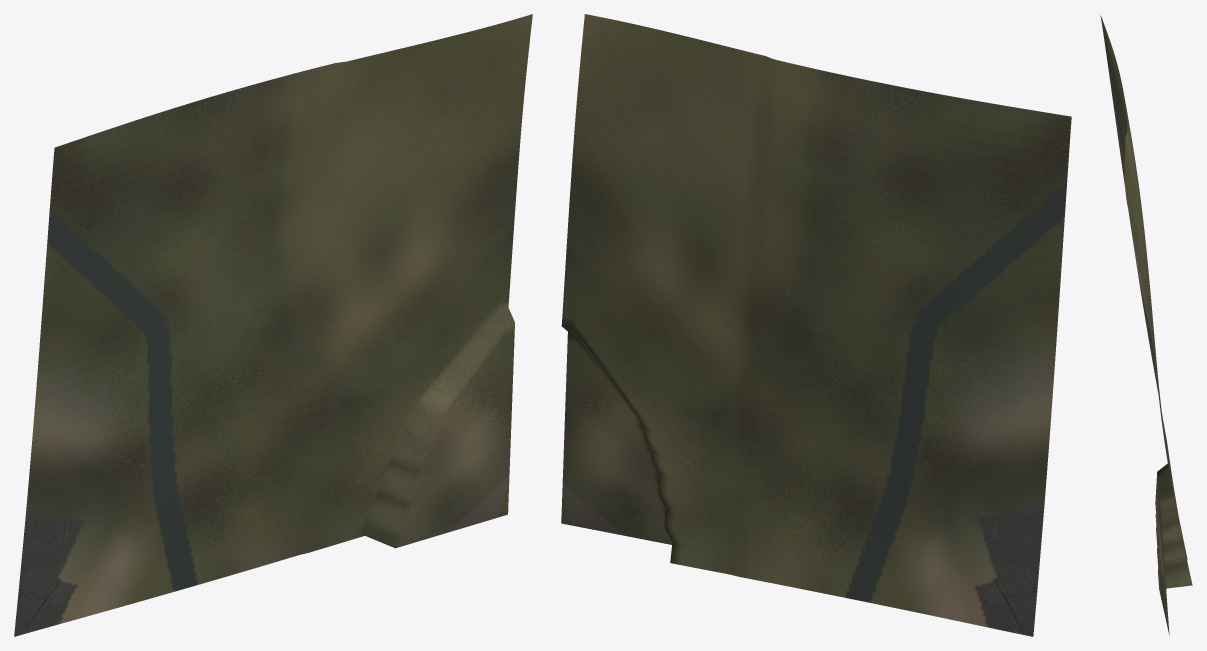
File: ground_core_02_04.obj
The picture shows the model from 3 angles, left to right: view 1: azimuth 30°, elevation 25°; view 2: azimuth 150°, elevation 25°; view 3: azimuth 270°, elevation 25°; orthographic projection. The views are drawn at different scales.
Parts seen in each view (by area): view 1: ground_core_02_04; view 2: ground_core_02_04; view 3: ground_core_02_04.
Part boxes in pixels (left/top/right/bottom): ground_core_02_04: left=14, top=14, right=532, bottom=636; ground_core_02_04: left=561, top=14, right=1071, bottom=636; ground_core_02_04: left=1100, top=15, right=1192, bottom=635.
Size of the model in its own units: 50 by 50 by 9.84.
1 material, 1 textured.
